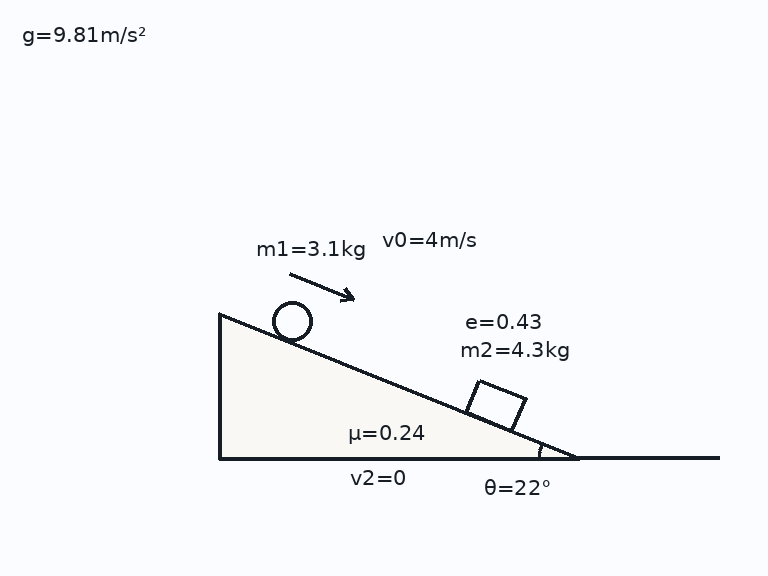ball: (270, 299, 314, 343)
block: (464, 377, 527, 433)
ramp: (217, 311, 581, 460)
